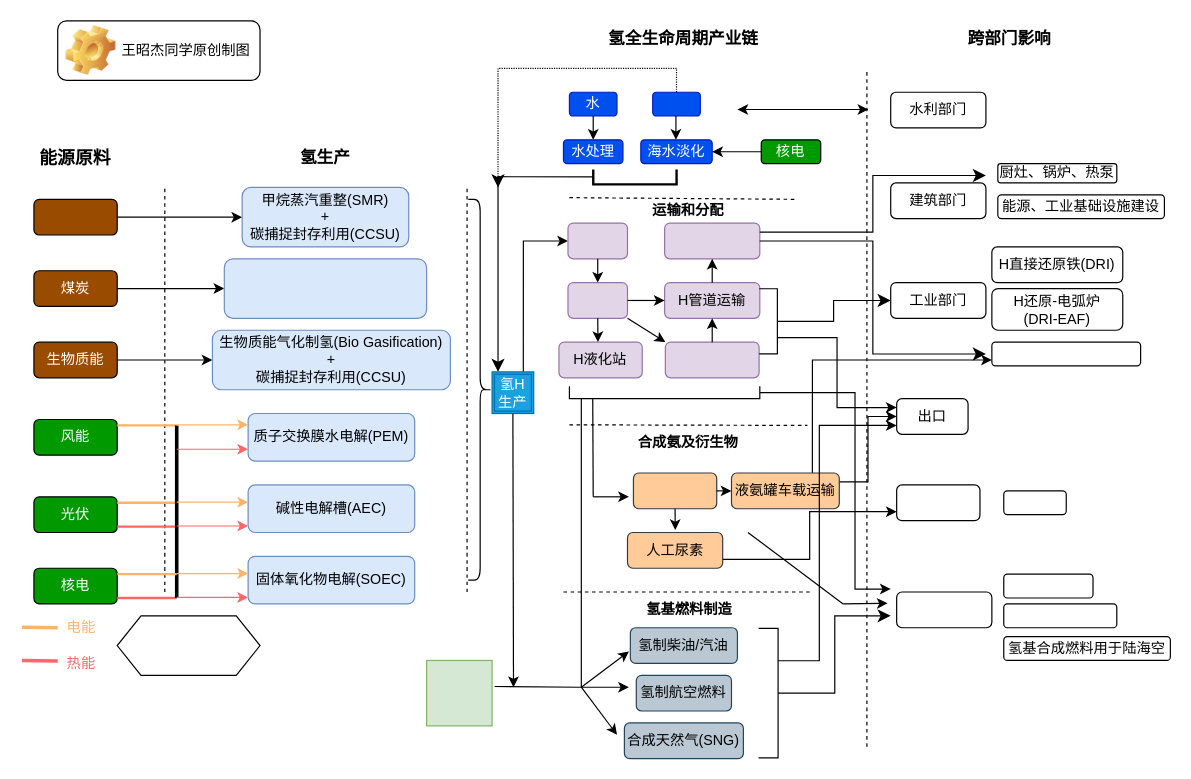
This 1191x779 diagram has some shape labels left out. The box of each missing label's shape, as (x1, y1, x2, y2) in pixels:
BESS储能、电网整合、能流时序调度: (116, 615, 260, 675)
CCUS 生物质能+CCUS: (425, 659, 492, 726)
H储存: (567, 281, 627, 318)
H压缩: (567, 222, 627, 259)
H罐车载运输: (664, 341, 759, 378)
交通运输部门: (895, 591, 992, 628)
农业: (895, 484, 980, 521)
合成氨: (632, 472, 717, 509)
合成氮肥: (1003, 490, 1066, 515)
天然气: (33, 198, 117, 235)
氢 天然气 混运: (663, 222, 760, 259)
氢、氨和混天然气产热: (991, 341, 1141, 366)
氢燃料汽车: (1003, 573, 1093, 598)
氨燃料海运船舶: (1003, 603, 1117, 628)
海水: (652, 91, 700, 116)
煤气化制氢(Coal Gasification) + 碳捕捉封存利用(CCSU): (223, 258, 427, 318)
